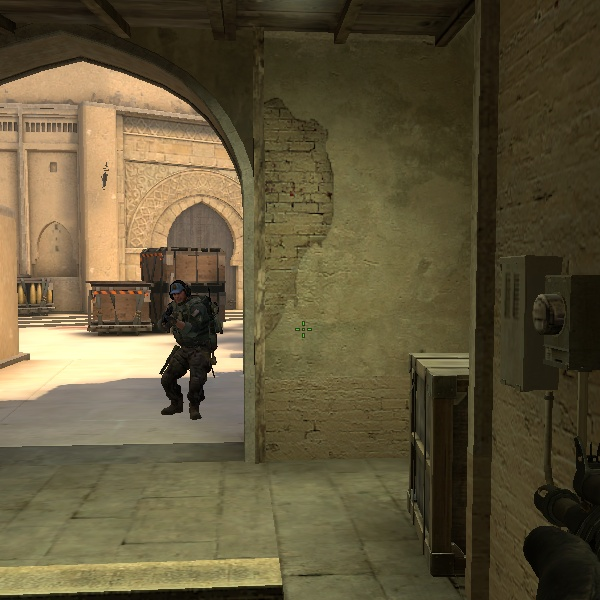ct_body: (138, 278, 226, 421)
ct_head: (165, 277, 195, 308)
